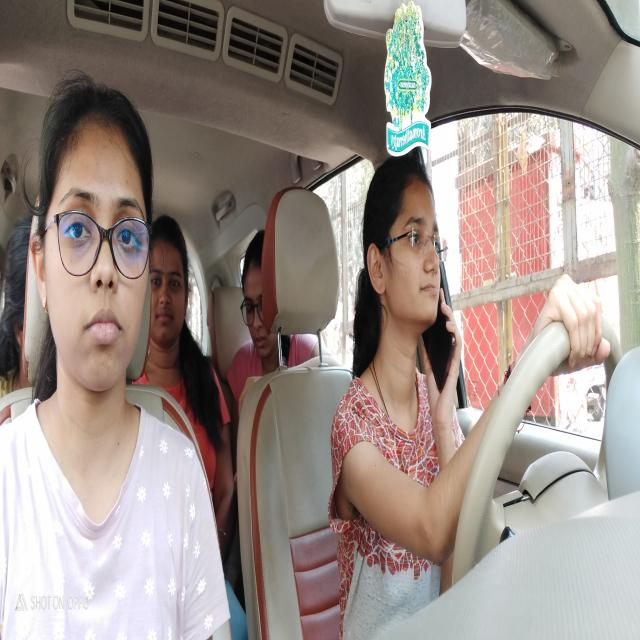mobile: (422, 305, 462, 402)
person: (29, 80, 152, 397), (366, 158, 444, 334), (238, 221, 282, 368), (149, 217, 190, 366), (6, 211, 31, 377)
